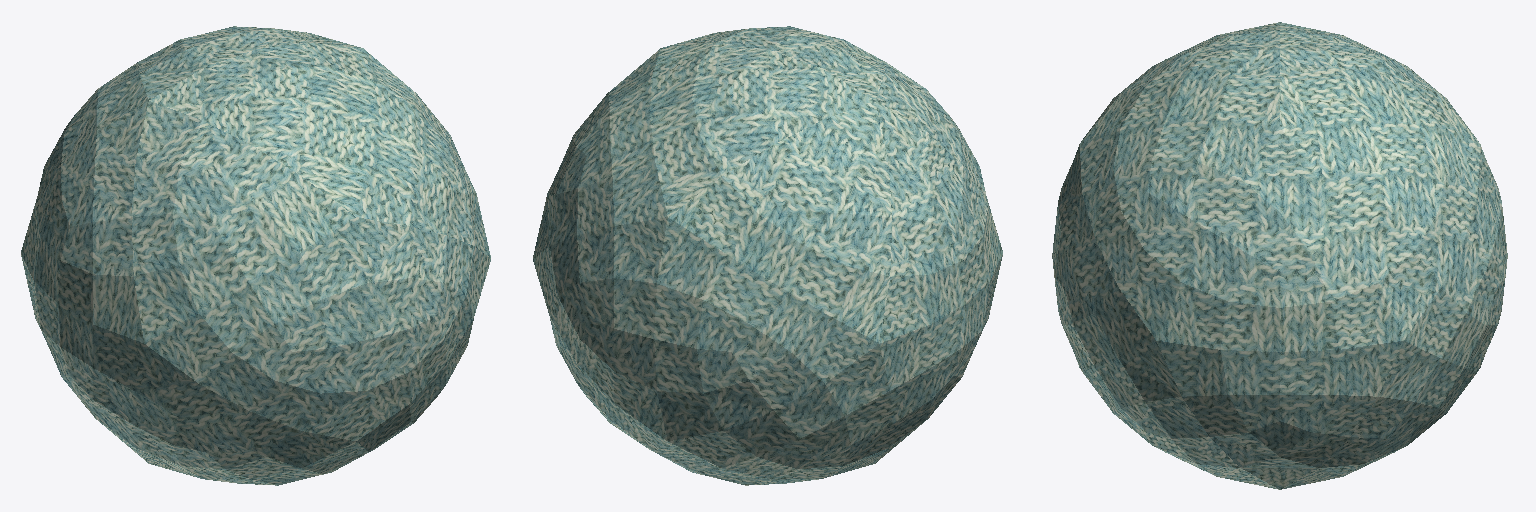
The picture shows the model from 3 angles: view 1: azimuth 30°, elevation 25°; view 2: azimuth 150°, elevation 25°; view 3: azimuth 270°, elevation 25°; orthographic projection.
Parts seen in each view (by area): view 1: pSolid1; view 2: pSolid1; view 3: pSolid1.
Part boxes in pixels (bbox=[...]): pSolid1: bbox=[21, 26, 490, 485]; pSolid1: bbox=[533, 26, 1002, 485]; pSolid1: bbox=[1052, 22, 1507, 489].
Size of the model in its own units: 1.46 by 1.46 by 1.46.
1 materials, 1 textured.